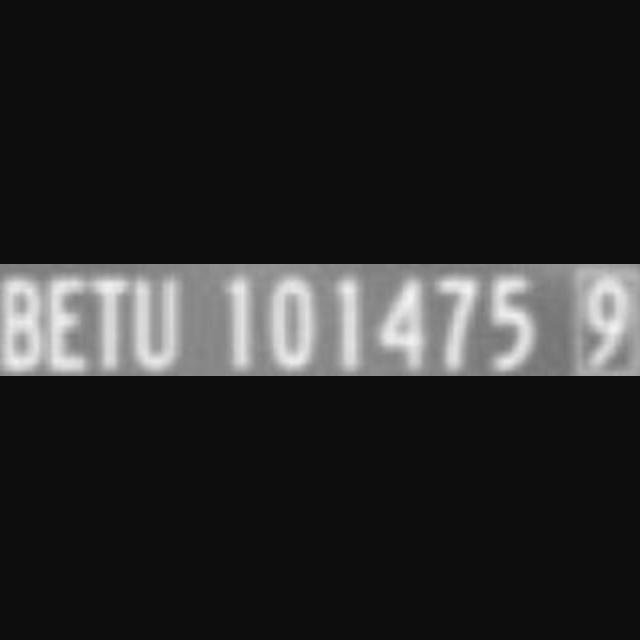0: (264, 264, 324, 376)
1: (219, 264, 263, 376), (328, 268, 370, 377)
4: (374, 265, 430, 377)
5: (484, 264, 544, 376)
7: (427, 266, 485, 376)
9: (580, 266, 638, 376)
b: (0, 272, 46, 372)
e: (47, 276, 87, 376)
t: (87, 276, 131, 376)
u: (128, 276, 182, 376)
